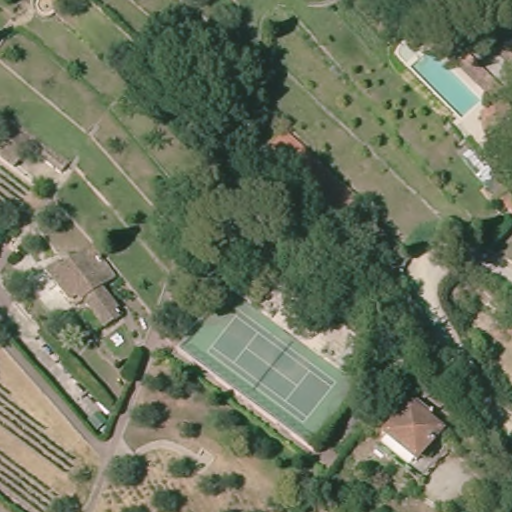pool: (406, 43, 487, 119)
